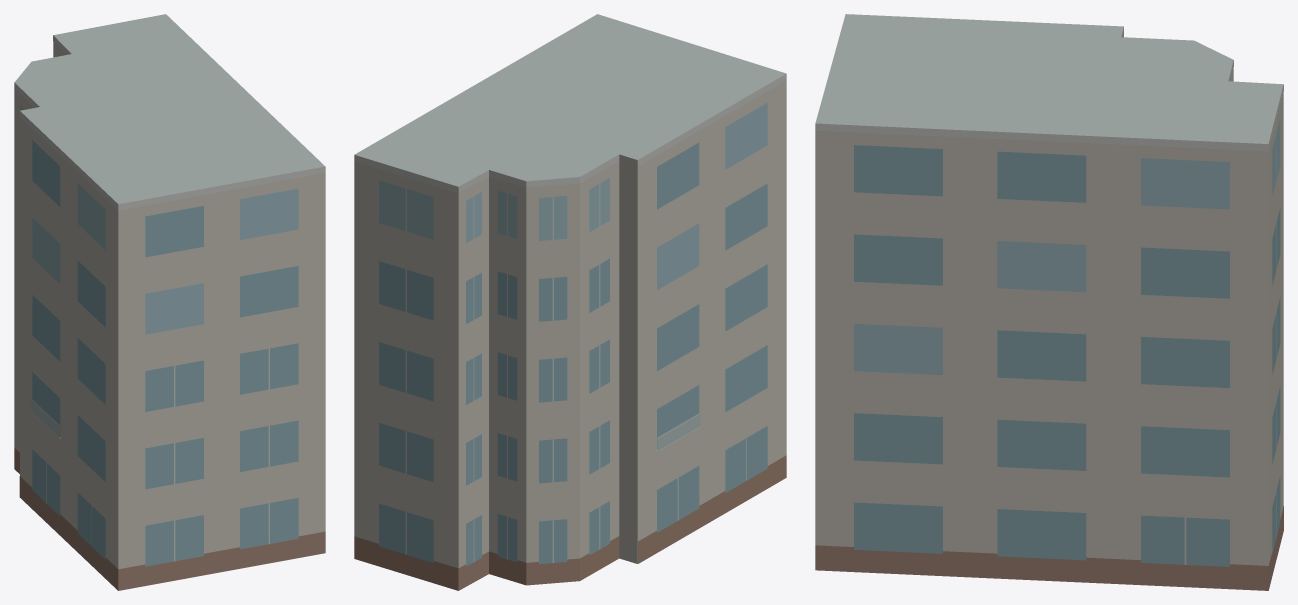
File: survey-upis-32959174.glb
The picture shows the model from 3 angles, left to right: view 1: azimuth 30°, elevation 25°; view 2: azimuth 150°, elevation 25°; view 3: azimuth 270°, elevation 25°; orthographic projection. The views are drawn at different scales.
Parts seen in each view (by area): view 1: survey-upis-32959174.tmp; view 2: survey-upis-32959174.tmp; view 3: survey-upis-32959174.tmp.
Part boxes in pixels (<box>): survey-upis-32959174.tmp: <box>14,14,325,590</box>; survey-upis-32959174.tmp: <box>354,14,786,590</box>; survey-upis-32959174.tmp: <box>815,14,1283,590</box>.
Size of the model in its own units: 9.53 by 15.25 by 14.5.
